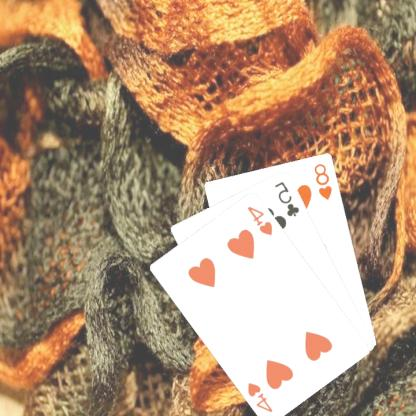4H: (246, 379, 276, 414), (246, 203, 276, 236)
5C: (274, 178, 303, 218)
8H: (313, 161, 335, 201)
